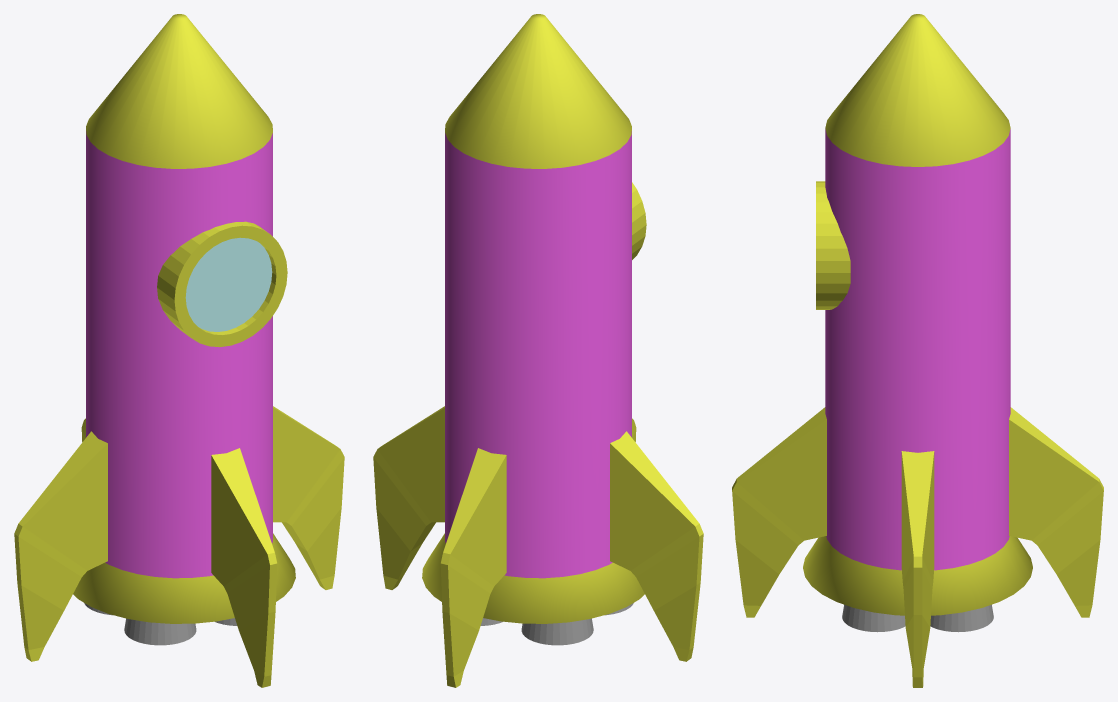
File: ronnieRocket.fbx
3 renders of one model, left to right at view 1: azimuth 30°, elevation 25°; view 2: azimuth 150°, elevation 25°; view 3: azimuth 270°, elevation 25°, orthographic.
Parts seen in each view (by area): view 1: Rocket, Window; view 2: Rocket, Window; view 3: Rocket, Window.
Part boxes in pixels (<box>): Rocket: <box>14,14,344,687</box>; Window: <box>157,221,287,347</box>; Rocket: <box>373,14,703,687</box>; Window: <box>632,182,646,259</box>; Rocket: <box>732,14,1103,687</box>; Window: <box>816,181,850,309</box>.
Size of the model in its own units: 401 by 713 by 401.
